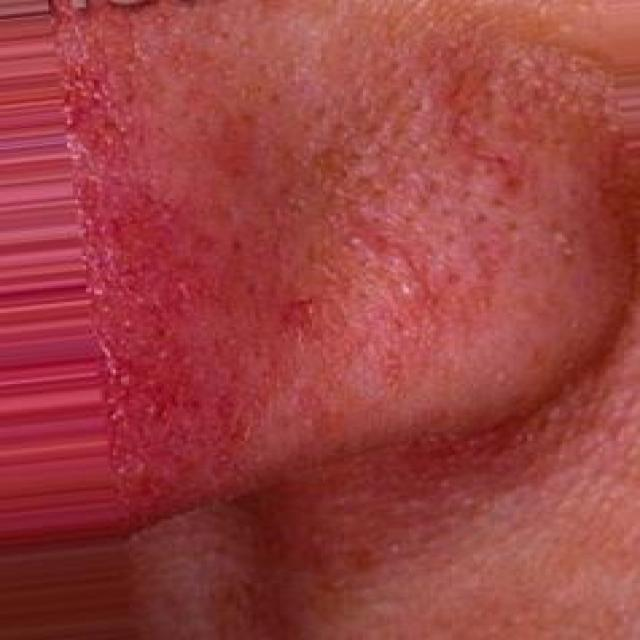Rosacea: (58, 48, 283, 486)
